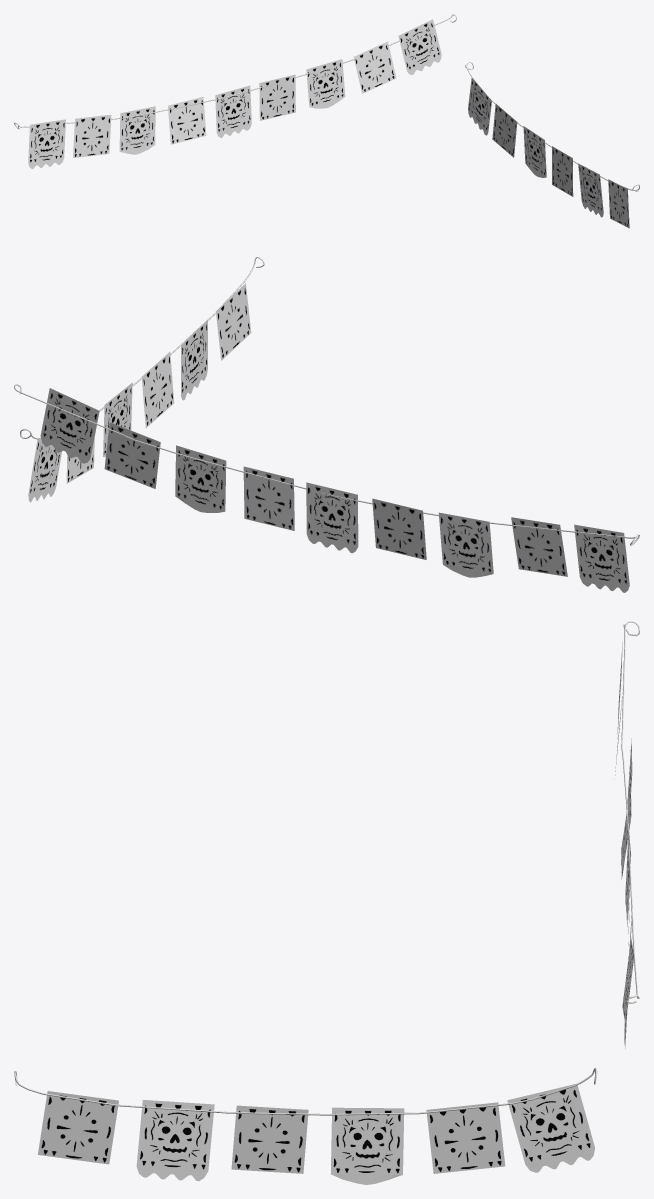
File: banner.fbx
3 renders of one model, top to bottom at view 1: azimuth 30°, elevation 25°; view 2: azimuth 150°, elevation 25°; view 3: azimuth 270°, elevation 25°, orthographic. The views are drawn at different scales.
Visible parts, largest first — view 1: Plane.040, Plane.044, Plane.046, Plane.043, Plane.039, Plane.041, Plane.042, Plane.045, Plane.047, Plane.052, Plane.050, Plane.049 (+4 smaller); view 2: Plane.043, Plane.044, Plane.039, Plane.040, Plane.046, Plane.047, Plane.042, Plane.041, Plane.045, Plane.053, Plane.051, Plane.052 (+4 smaller); view 3: Plane.052, Plane.048, Plane.050, Plane.053, Plane.049, Plane.051, bannerRope.01, bannerRope.02.
Part boxes in pixels (box(x1,y1,x2,y2)): Plane.040: box(28, 119, 65, 168); Plane.044: box(398, 19, 441, 74); Plane.046: box(306, 59, 345, 108); Plane.043: box(215, 85, 251, 137); Plane.039: box(119, 106, 155, 154); Plane.041: box(73, 114, 111, 157); Plane.042: box(168, 96, 206, 144); Plane.045: box(353, 41, 396, 93); Plane.047: box(259, 74, 295, 120); Plane.052: box(578, 163, 603, 217); Plane.050: box(523, 126, 546, 177); Plane.049: box(492, 104, 517, 157); Plane.043: box(306, 482, 358, 553); Plane.044: box(40, 388, 99, 463); Plane.039: box(438, 512, 493, 577); Plane.040: box(574, 524, 629, 592); Plane.046: box(175, 445, 226, 512); Plane.047: box(243, 466, 294, 530); Plane.042: box(372, 498, 426, 559); Plane.041: box(511, 517, 567, 576); Plane.045: box(104, 422, 160, 488); Plane.053: box(215, 283, 251, 360); Plane.051: box(141, 352, 174, 428); Plane.052: box(181, 319, 207, 400); Plane.052: box(136, 1100, 214, 1181); Plane.048: box(507, 1084, 594, 1172); Plane.050: box(331, 1107, 404, 1184); Plane.053: box(38, 1091, 118, 1164); Plane.049: box(426, 1102, 505, 1173); Plane.051: box(231, 1105, 308, 1173); bannerRope.01: box(14, 1068, 597, 1115); bannerRope.02: box(621, 621, 639, 1003).
Size of the model in its own units: 3.23 by 0.7469 by 2.24.
